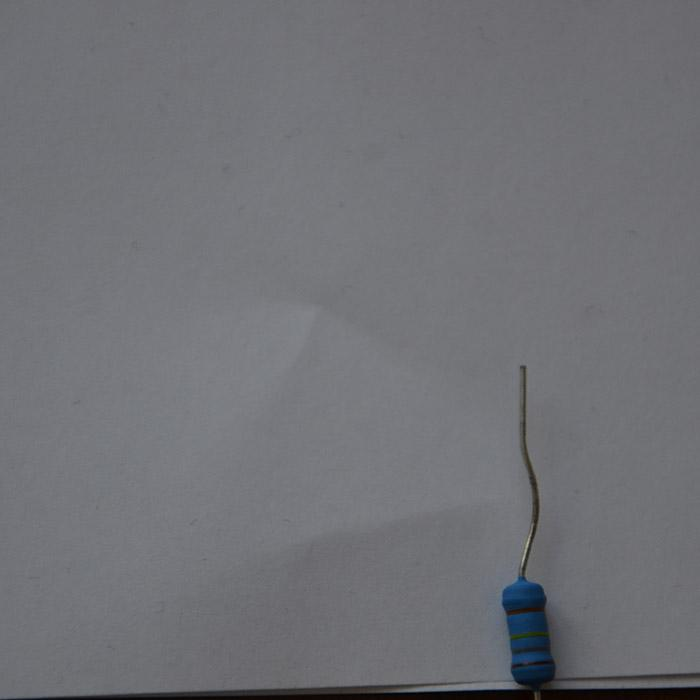resistor: (502, 574, 555, 689)
